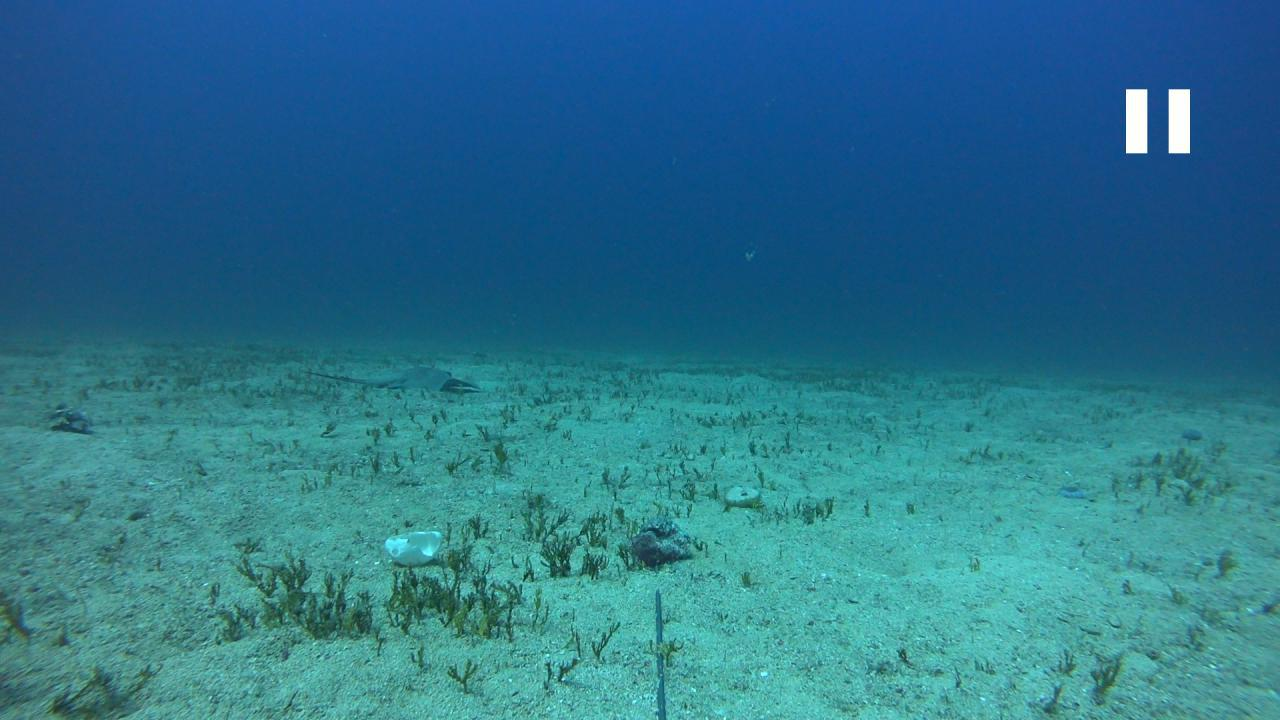dasyatis: (300, 366, 482, 394)
